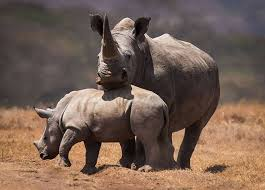Rhinoceros: (87, 5, 221, 170)
